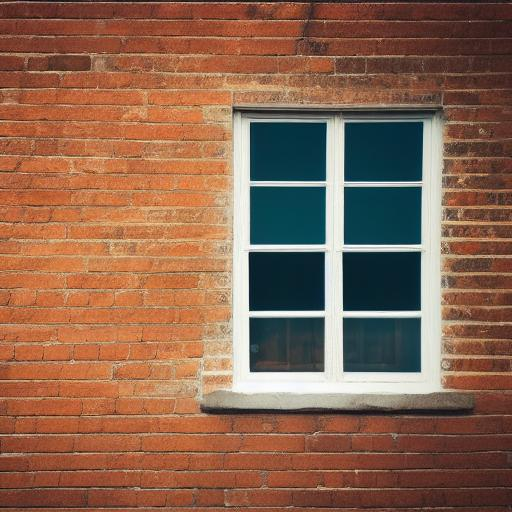Window: (201, 99, 476, 417)
